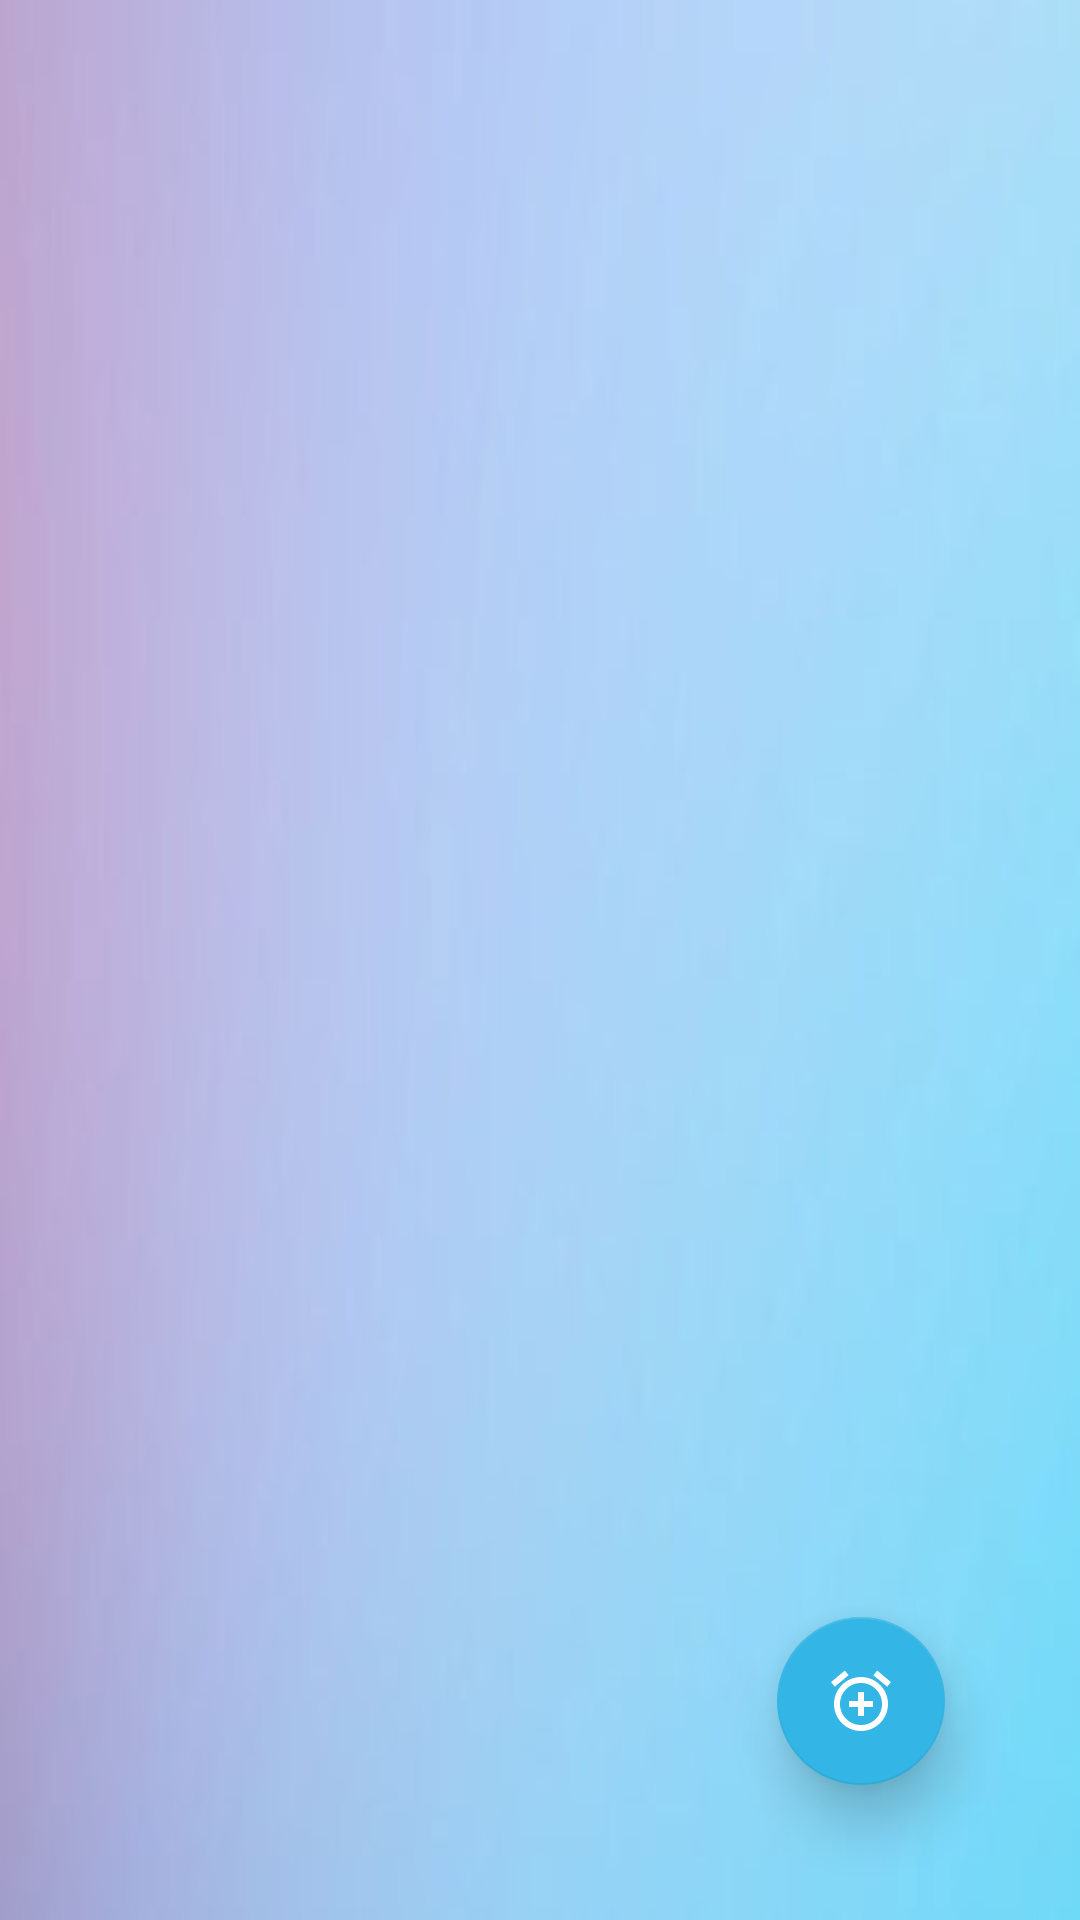

Icons on this 1080×1920 Android screen, each with its box as (x1, y1, x2, y2):
add alarm: (777, 1617, 945, 1785)
